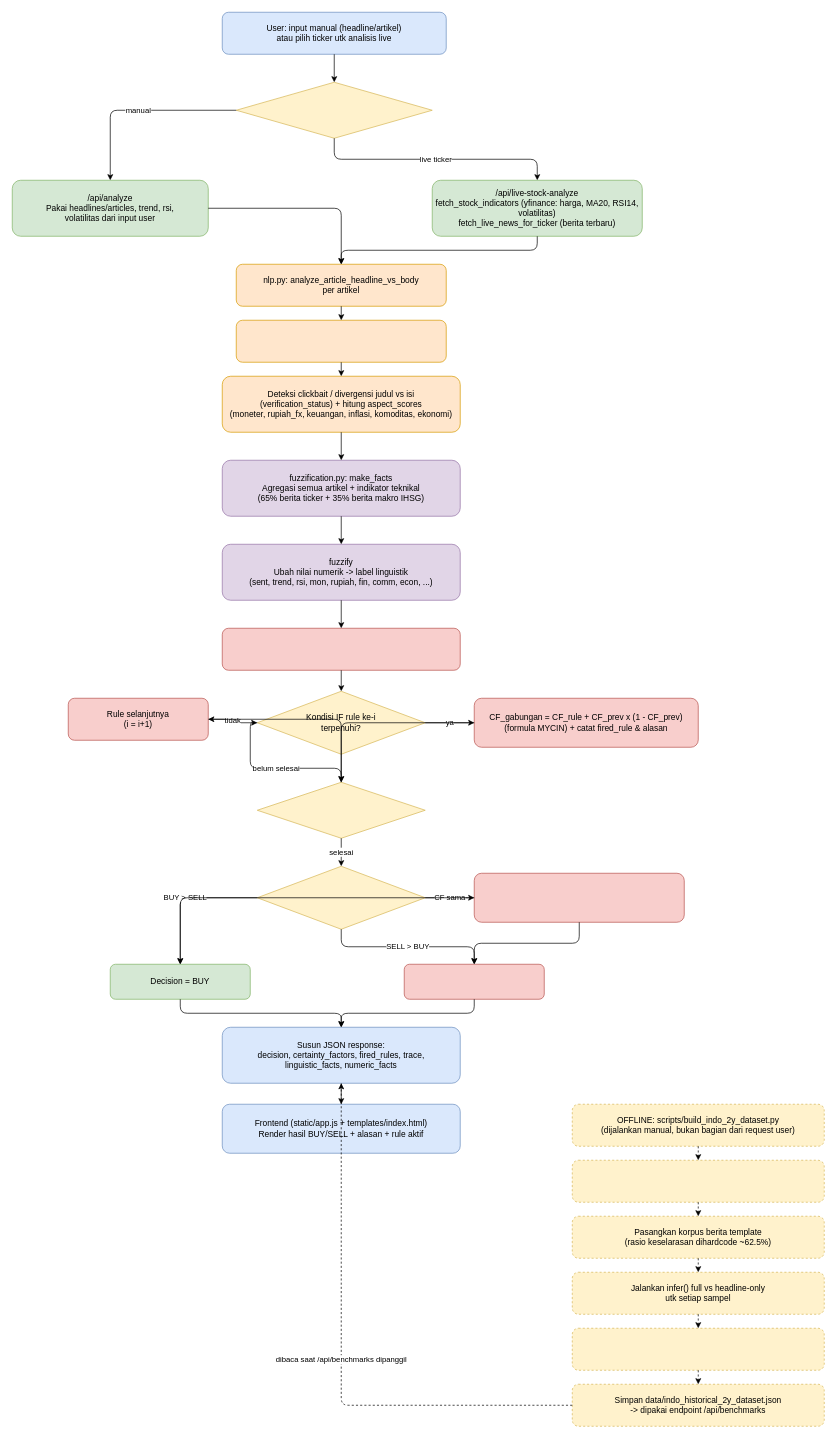
The diagram is 837 pixels wide and 1439 high, and some of its shapes have lost their labels. The centre of each missing label's shape, as x and y in pixels:
"Bandingkan CF BUY vs CF SELL" belongs at point 341,897.
"CF sama -> Tie-breaker (sentimen efektif + trend teknikal + RSI)" belongs at point 579,897.
"Decision = SELL" belongs at point 474,981.
"Endpoint FastAPI (main.py) /api/analyze atau /api/live-stock-analyze?" belongs at point 334,110.
"Hitung metrik sklearn: accuracy, macro-F1, Logistic Regression, Random Forest" belongs at point 698,1349.
"inference.py: infer() Mulai forward chaining pada 14 RULES (rules.py)" belongs at point 341,649.
"Preprocess teks + Lexicon scoring -> headline_score vs body_score" belongs at point 341,341.
"Semua 14 rule selesai dicek" belongs at point 341,810.
"yfinance history 2y per 7 ticker (^JKSE, BBCA, BBRI, BMRI, TLKM, ASII, ADRO)" belongs at point 698,1181.
